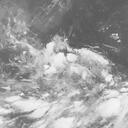cyclone: (34, 45, 98, 118)
